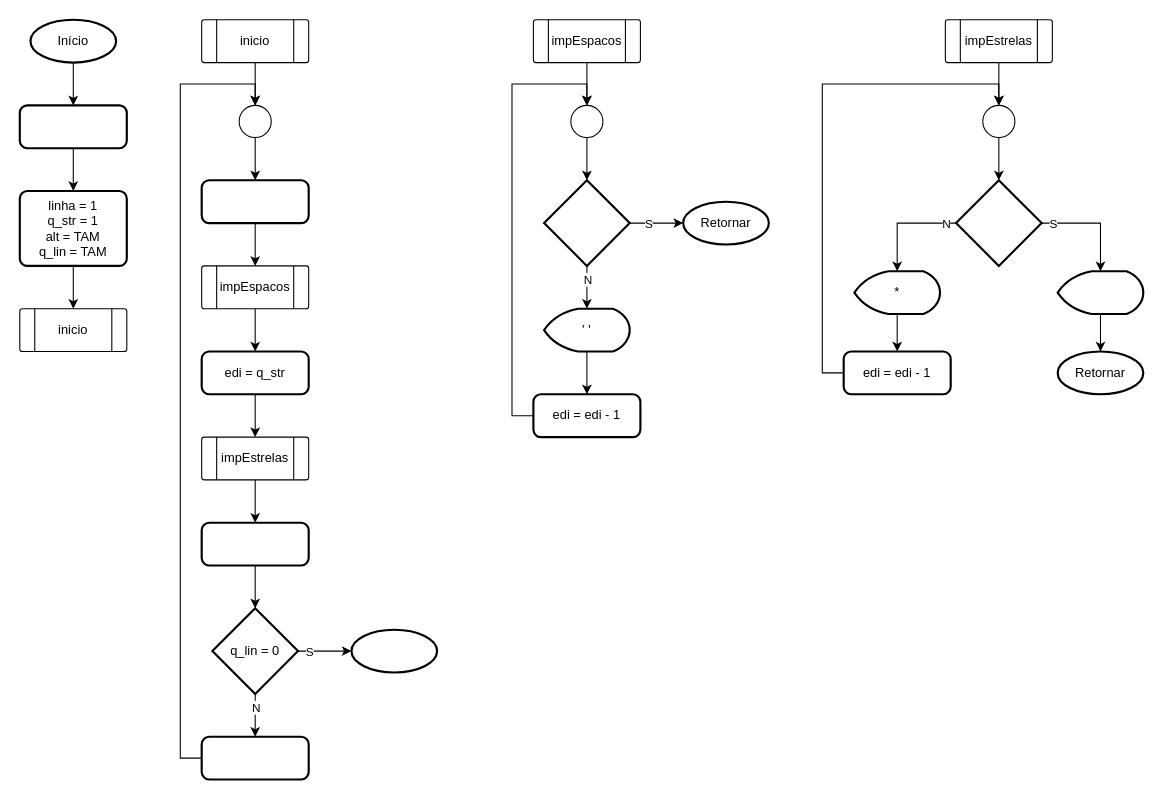
Some shapes in this 1162 by 798 pixel diagram are drawn without their labels. The centre of each missing label's shape, as x and y in pixels:
*, LF: point 1100,292
edi < 1: point 586,222
edi = 1: point 998,222
edi = alt edi = edi - 1: point 254,201
Fim: point 394,650
q_lin = q_lin - 1: point 254,543
q_str = q_str + 2 linha = linha + 1: point 254,757
TAM = 4: point 72,126
